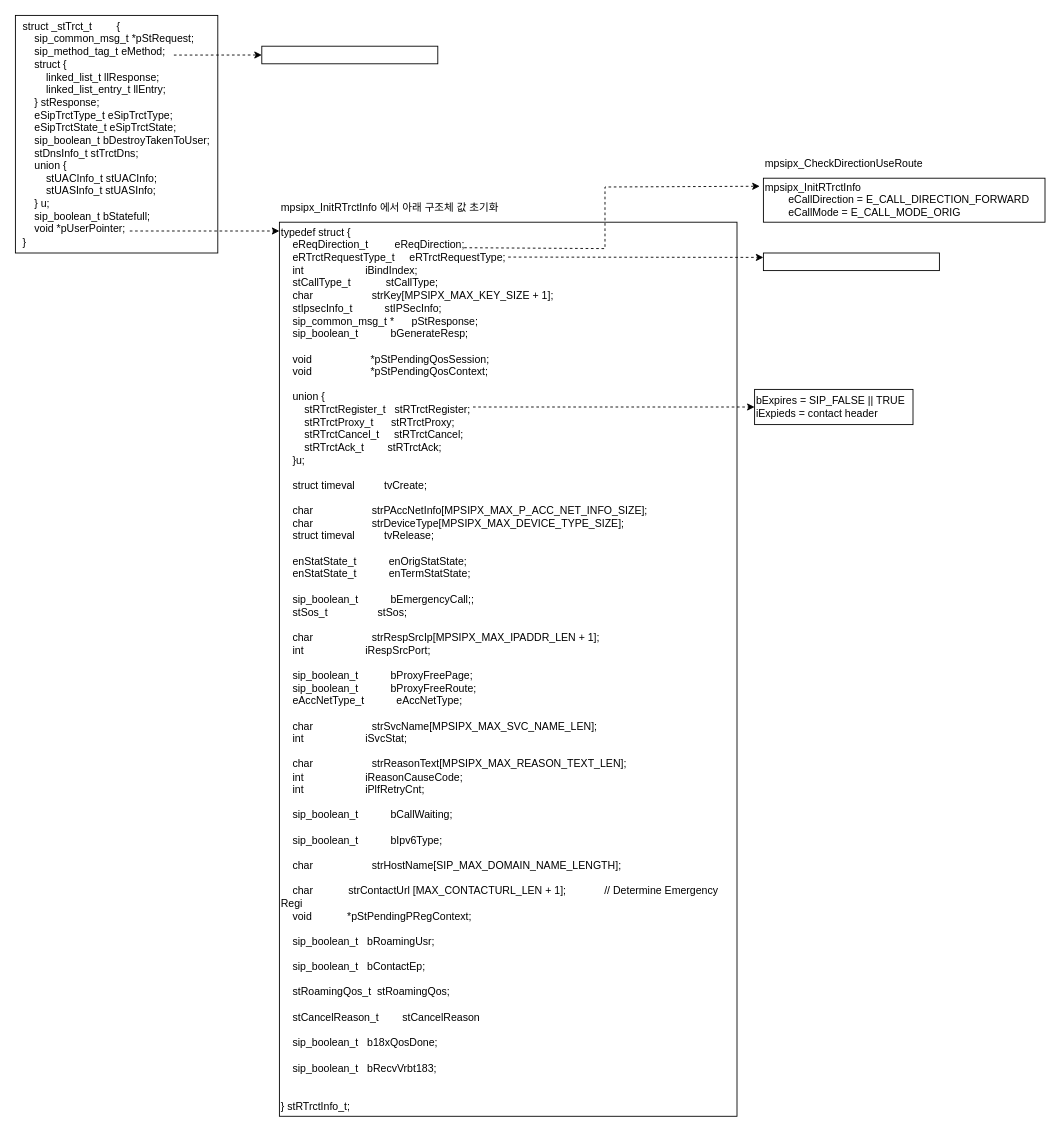
The diagram is 1060 pixels wide and 1132 high, and some of its shapes have lost their labels. The shapes that lost their labels are listed below. From the top down, each one's centre as x and y in pixels, then its label:
At (x=349, y=54): "SIP_METHOD_TAG_REGISTER".
At (x=851, y=261): "eRTRCT_REQ_TYPE_REGISTER".
